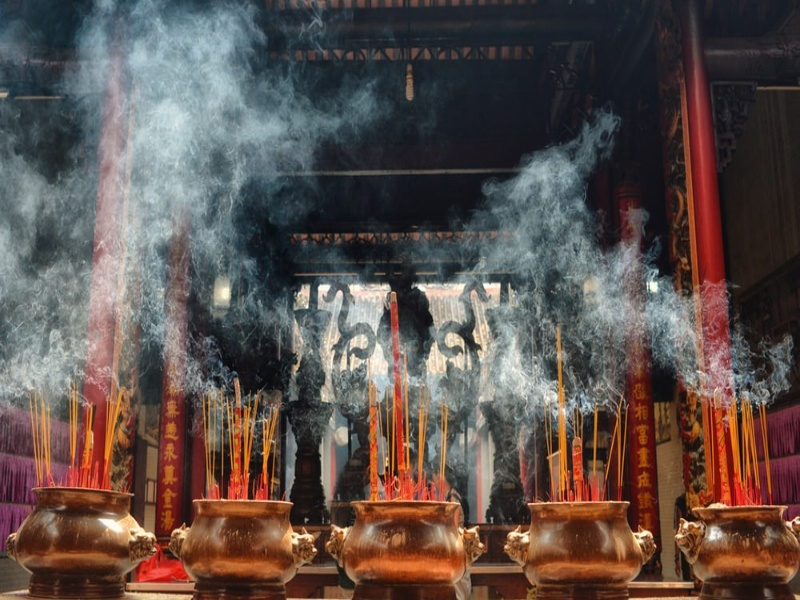smoke: (19, 29, 630, 408)
